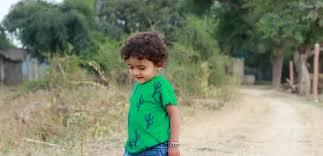Human: (113, 22, 187, 154)
